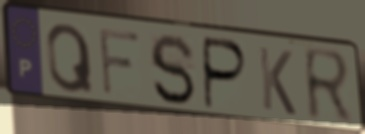F: (96, 26, 143, 99)
K: (256, 44, 298, 119)
P: (202, 34, 250, 113)
Q: (44, 22, 97, 96)
R: (300, 44, 356, 128)
S: (147, 32, 199, 109)
